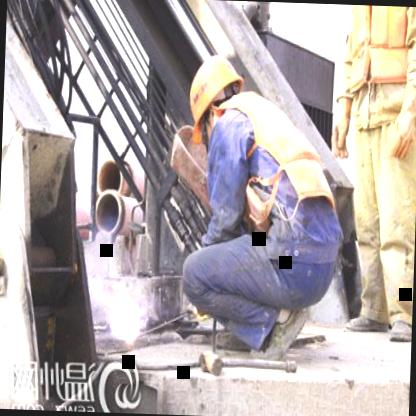helmet: (184, 49, 250, 139)
